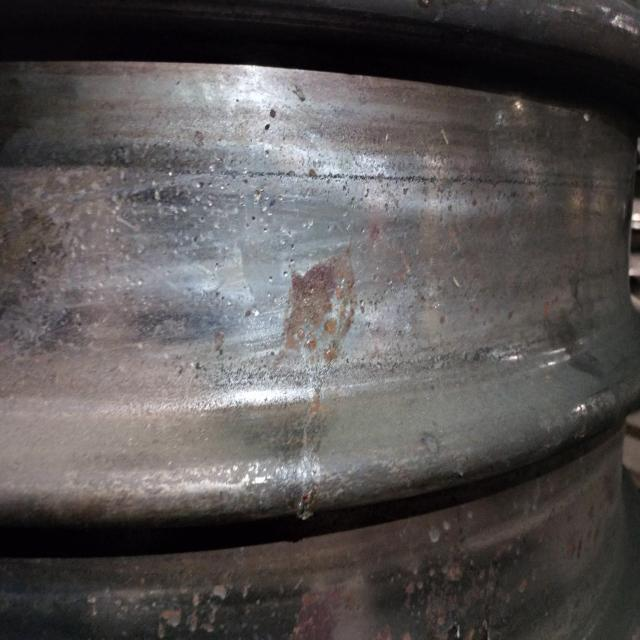Contact_Fatigue_Cracks: (342, 358, 483, 372)
Out_Of_Roundness: (291, 394, 333, 530)
Peeling: (434, 551, 515, 640)
